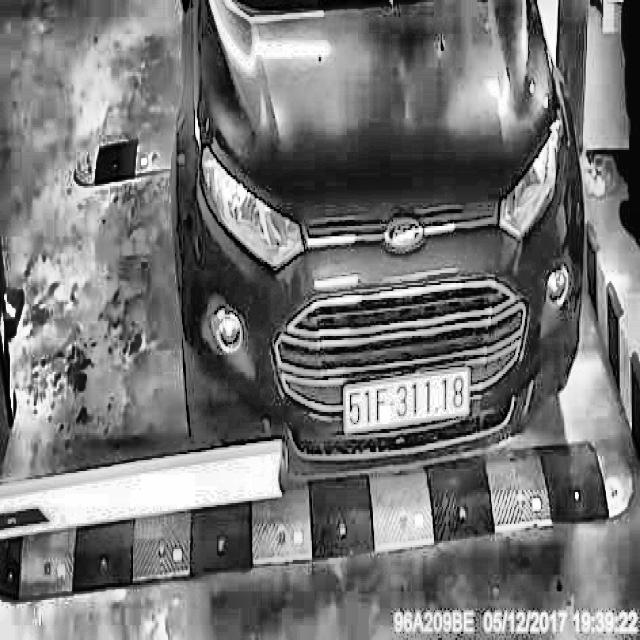plate: (340, 364, 472, 441)
